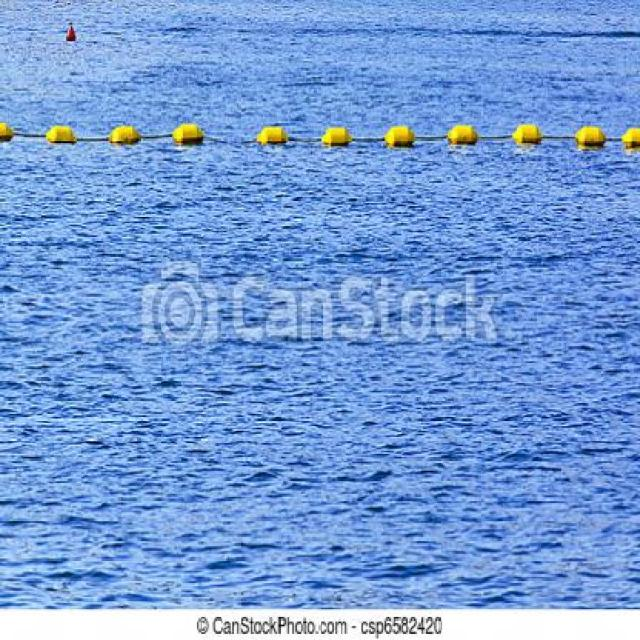a: (254, 106, 605, 160), (165, 108, 211, 162), (437, 111, 482, 159), (256, 111, 294, 162), (313, 111, 351, 162), (93, 111, 134, 154), (380, 113, 407, 164)
